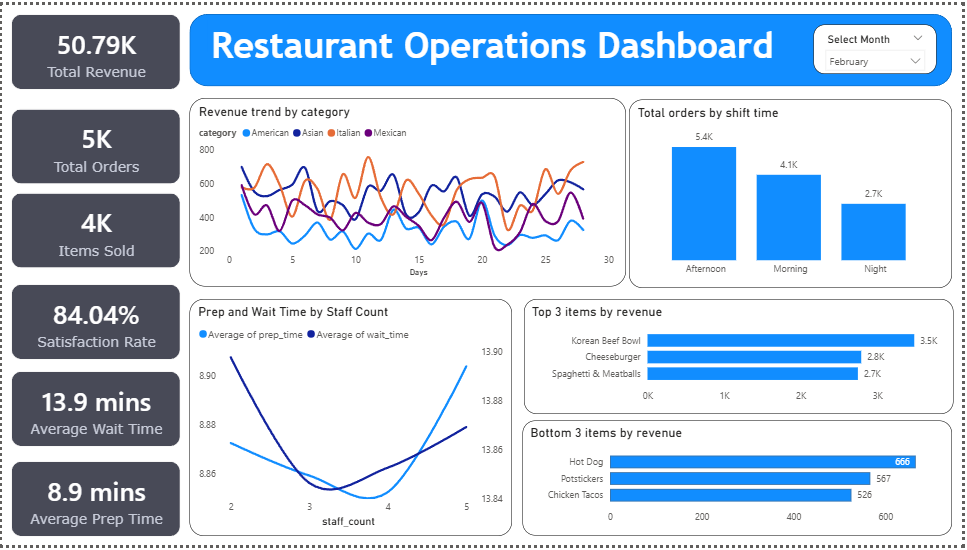

The page's visual inventory and layout, read from the dashboard file:
{"tool":"powerbi","page":{"name":"Page 1","canvas":[1280,720],"ordinal":0},"visuals":[{"type":"lineChart","fields":{"Category":["restaurant_operations_analytics order_details.order_date.Variation.Date Hierarchy.Day"],"Y":["_measures.Total_revenue"],"Series":["restaurant_operations_analytics menu_items.category"]},"box":[249.5,124.7,582.1,251.3],"z":0},{"type":"barChart","title":"Top 3 items by revenue","fields":{"Category":["restaurant_operations_analytics menu_items.item_name"],"Y":["_measures.Total_revenue"]},"box":[695.4,391.2,572.6,153.1],"z":1000},{"type":"barChart","title":"Bottom 3 items by revenue","fields":{"Category":["restaurant_operations_analytics menu_items.item_name"],"Y":["_measures.Total_revenue"]},"box":[693.5,553.7,572.6,153.1],"z":2000},{"type":"cardVisual","fields":{"Data":["_measures.Total_revenue"]},"box":[0,0,250,125],"z":3000},{"type":"cardVisual","fields":{"Data":["_measures.Total_orders"]},"box":[0,125,250,125],"z":4000},{"type":"cardVisual","fields":{"Data":["_measures.Average Prep Time"]},"box":[0,595,250,125],"z":5000},{"type":"cardVisual","fields":{"Data":["_measures.Average Wait Time"]},"box":[0,475,250,125],"z":6000},{"type":"cardVisual","fields":{"Data":["_measures.satisfaction_rate"]},"box":[0,360,250,125],"z":7000},{"type":"cardVisual","fields":{"Data":["_measures.Total_items_sold"]},"box":[0,237.5,250,125],"z":8000},{"type":"lineChart","title":"Staff_count vs Time","fields":{"Y":["Avg(restaurant_operations_analytics operational_metrices.prep_time)"],"Y2":["Avg(restaurant_operations_analytics operational_metrices.wait_time)"],"Category":["restaurant_operations_analytics staffing_metrices.staff_count"]},"box":[250,391.7,430,315.8],"z":9000},{"type":"clusteredColumnChart","title":"total orders by shift time","fields":{"Y":["CountNonNull(restaurant_operations_analytics operational_metrices.order_id)"],"Category":["restaurant_operations_analytics staffing_metrices.shift_time"]},"box":[835.3,126.6,430.9,251.3],"z":10000},{"type":"shape","box":[249.5,11.3,1016.7,96.4],"z":10001},{"type":"textbox","box":[274,20.8,971.3,86.9],"z":10002}]}

Visuals, with their boxes in screenshot pixels (x1, y1, x2, y2), scaled from the page's 1280x720 canvas onto the 967x550 screenshot:
lineChart - restaurant_operations_analytics order_details.order_date.Variation.Date Hierarchy.Day x _measures.Total_revenue: bbox=[188, 95, 628, 287]
"Top 3 items by revenue" barChart: bbox=[525, 299, 958, 416]
"Bottom 3 items by revenue" barChart: bbox=[524, 423, 956, 540]
cardVisual - _measures.Total_revenue: bbox=[0, 0, 189, 95]
cardVisual - _measures.Total_orders: bbox=[0, 95, 189, 191]
cardVisual - _measures.Average Prep Time: bbox=[0, 455, 189, 549]
cardVisual - _measures.Average Wait Time: bbox=[0, 363, 189, 458]
cardVisual - _measures.satisfaction_rate: bbox=[0, 275, 189, 370]
cardVisual - _measures.Total_items_sold: bbox=[0, 181, 189, 277]
"Staff_count vs Time" lineChart: bbox=[189, 299, 514, 540]
"total orders by shift time" clusteredColumnChart: bbox=[631, 97, 957, 289]
shape: bbox=[188, 9, 957, 82]
textbox: bbox=[207, 16, 941, 82]
